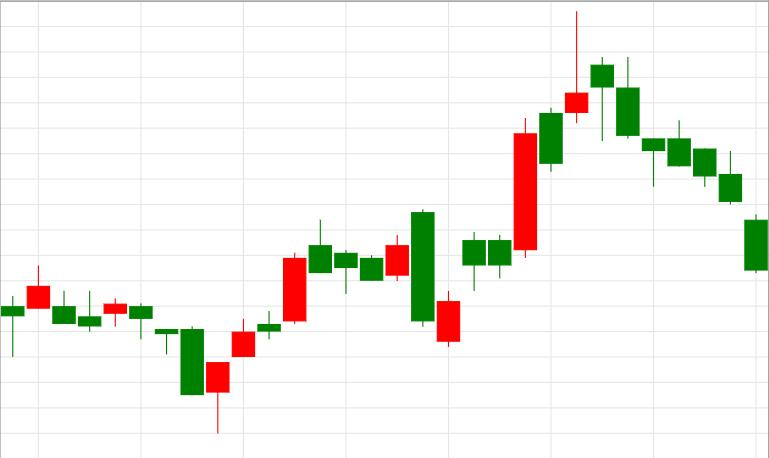hammer_rise: (104, 298, 230, 433)
shooting_star_fall: (436, 11, 588, 346)
